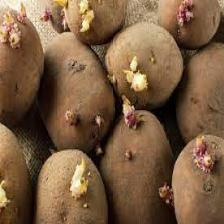Sprouted potato: (35, 29, 115, 154), (102, 13, 186, 114), (153, 124, 224, 222), (31, 145, 108, 224), (0, 0, 43, 124), (52, 0, 132, 44), (156, 0, 224, 47)
